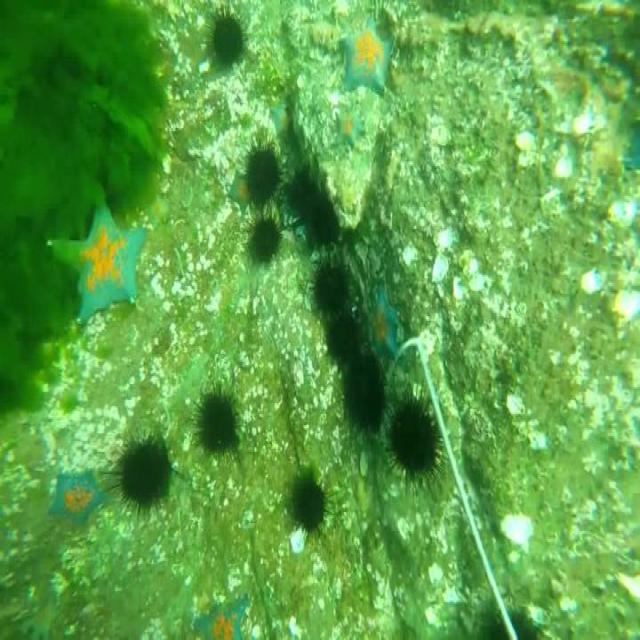echinus: (49, 199, 146, 321), (100, 433, 172, 518), (388, 392, 442, 487), (337, 18, 393, 100), (288, 166, 337, 243), (194, 379, 237, 466), (342, 348, 385, 430), (49, 471, 105, 528), (288, 466, 331, 533), (190, 592, 248, 640), (366, 281, 396, 368), (243, 142, 281, 210), (206, 8, 243, 68), (315, 260, 353, 318), (480, 610, 539, 640), (329, 313, 363, 363), (248, 213, 280, 264), (337, 98, 362, 149), (270, 100, 294, 134)
scallop: (497, 512, 533, 545), (615, 291, 640, 322), (608, 202, 636, 225), (432, 252, 452, 284), (574, 111, 604, 131), (580, 269, 606, 292), (516, 131, 538, 152), (556, 150, 572, 176), (434, 124, 451, 146)
